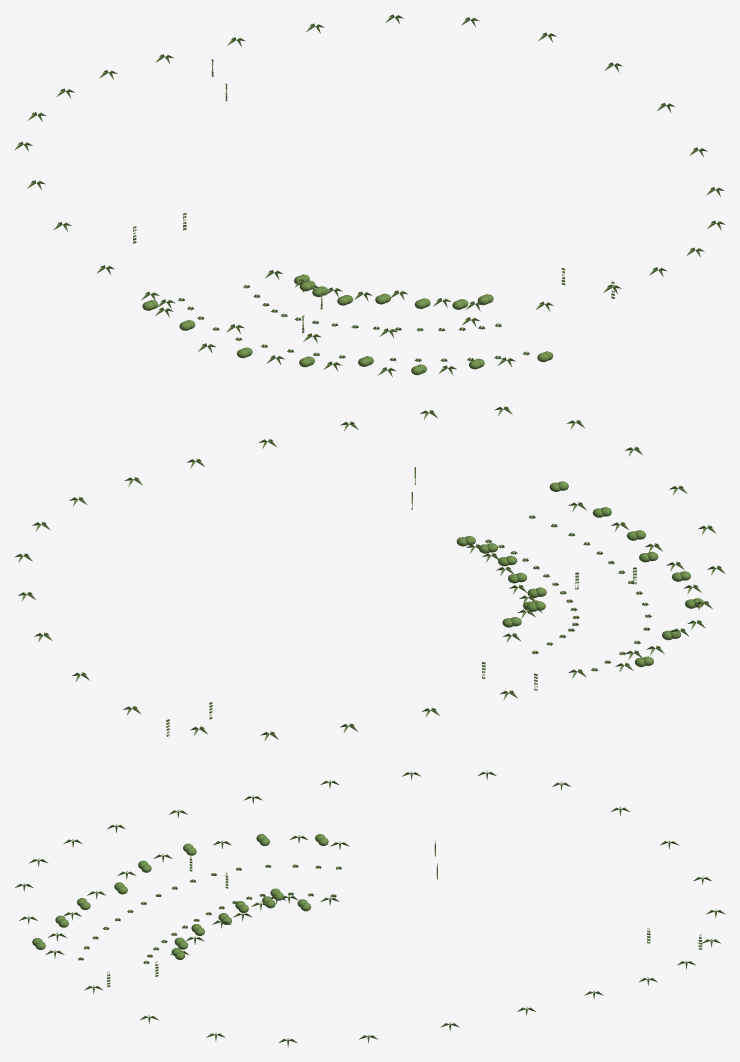
File: Jungle_LeafTips_2.fbx
The picture shows the model from 3 angles, top to bottom: view 1: azimuth 30°, elevation 25°; view 2: azimuth 150°, elevation 25°; view 3: azimuth 270°, elevation 25°; orthographic projection. The views are drawn at different scales.
Parts seen in each view (by area): view 1: Jungle_LeafTips_2; view 2: Jungle_LeafTips_2; view 3: Jungle_LeafTips_2.
Boxes of the visible parts, x1,y1,x2,y2 form: Jungle_LeafTips_2: (14, 14, 725, 376); Jungle_LeafTips_2: (14, 406, 725, 741); Jungle_LeafTips_2: (15, 771, 725, 1046).
Size of the model in its own units: 105560 by 12973 by 118632.
